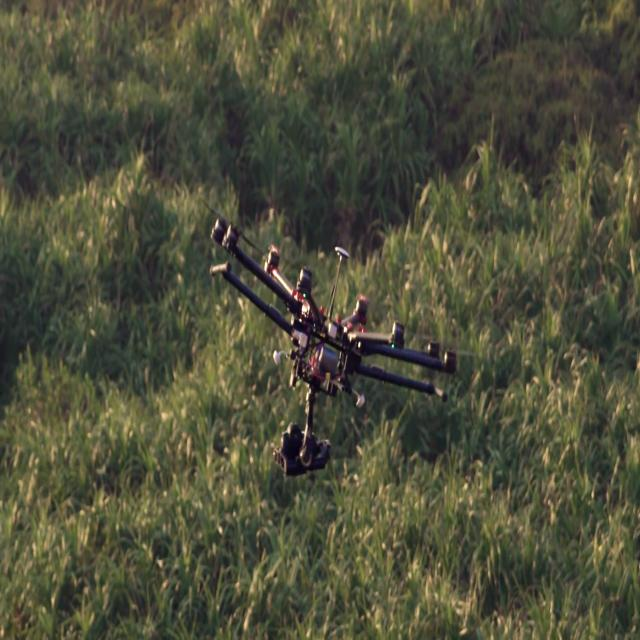drone: (210, 187, 443, 520)
